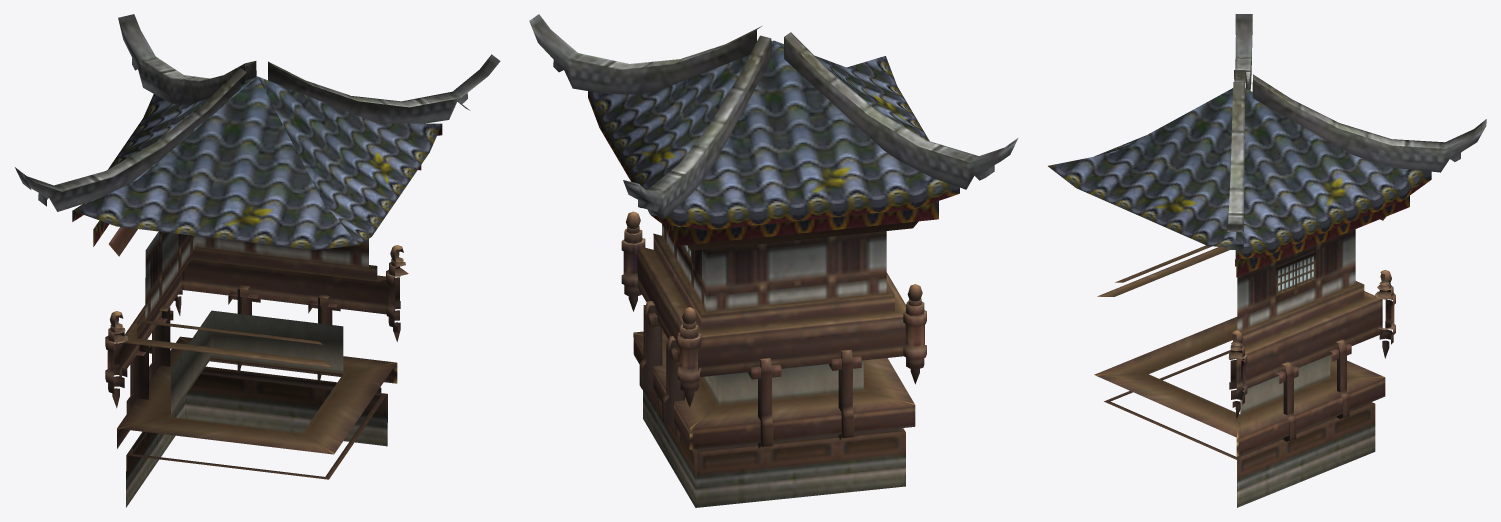
Rendered from S2_Build_XSC016_H1.FBX.
3 renders of one model, left to right at view 1: azimuth 30°, elevation 25°; view 2: azimuth 150°, elevation 25°; view 3: azimuth 270°, elevation 25°, orthographic. The views are drawn at different scales.
Parts seen in each view (by area): view 1: S2_Build_XSC016_H1; view 2: S2_Build_XSC016_H1; view 3: S2_Build_XSC016_H1.
Part boxes in pixels (x1=…): S2_Build_XSC016_H1: x1=15, y1=14, x2=500, y2=507; S2_Build_XSC016_H1: x1=529, y1=14, x2=1018, y2=507; S2_Build_XSC016_H1: x1=1048, y1=14, x2=1486, y2=507.
Size of the model in its own units: 3144 by 2611 by 2772.
